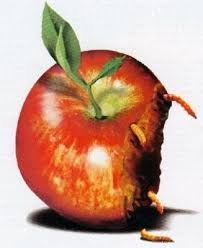damaged_apple: (16, 48, 181, 230)
